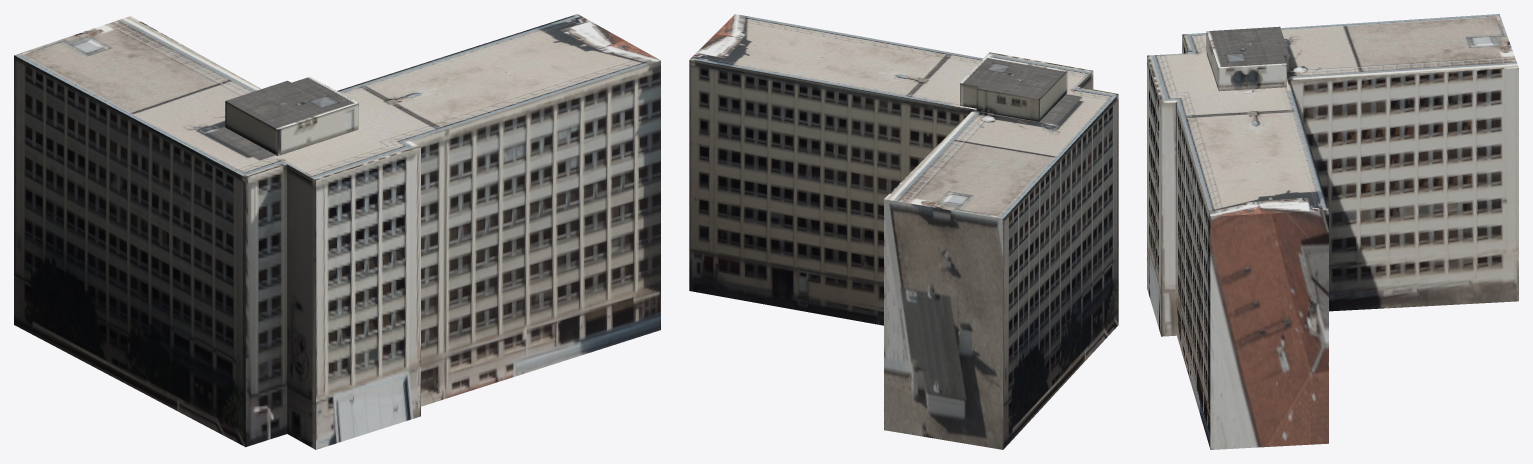
3 renders of one model, left to right at view 1: azimuth 30°, elevation 25°; view 2: azimuth 150°, elevation 25°; view 3: azimuth 270°, elevation 25°, orthographic. The views are drawn at different scales.
Visible parts, largest first — view 1: Z_UP; view 2: Z_UP; view 3: Z_UP.
Boxes of the visible parts, x1,y1,x2,y2 form: Z_UP: (14, 14, 660, 449); Z_UP: (689, 14, 1118, 449); Z_UP: (1147, 14, 1518, 449).
Size of the model in its own units: 49.89 by 29.41 by 38.67.
2 materials, 1 textured.
